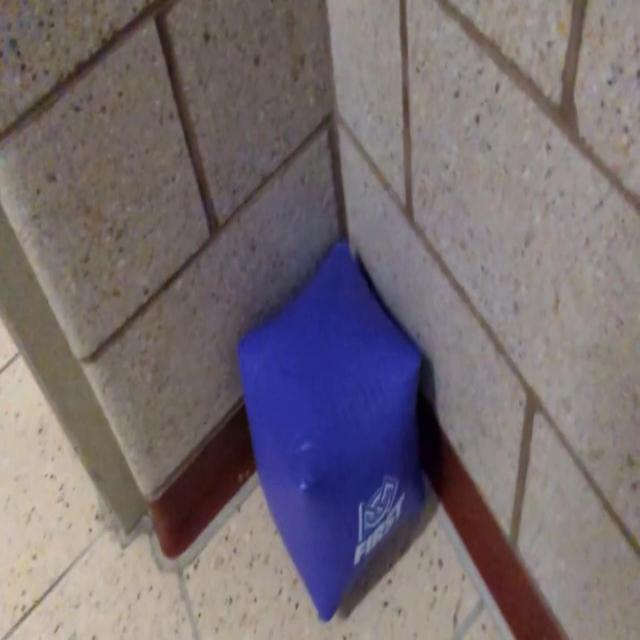frc_cube: (238, 248, 424, 621)
